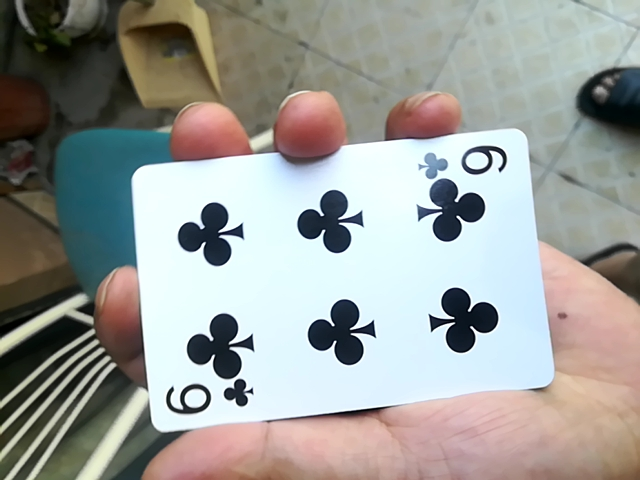mh 6: (137, 123, 554, 437)
